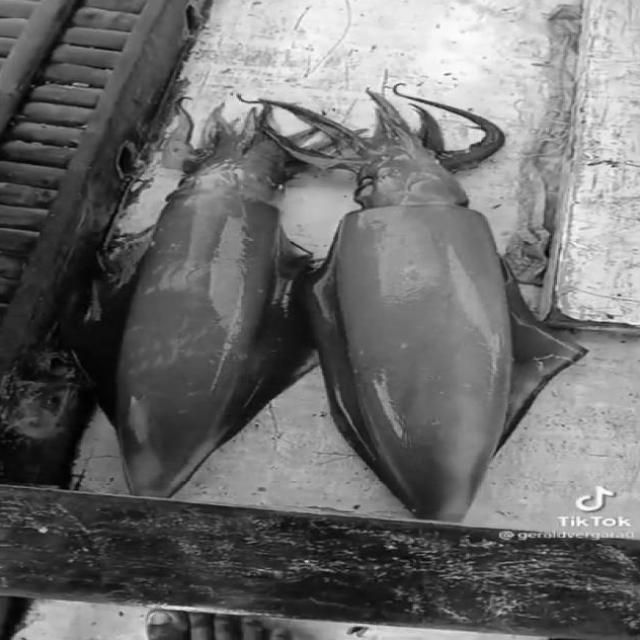SQUID: (309, 51, 555, 553), (64, 63, 319, 519)
